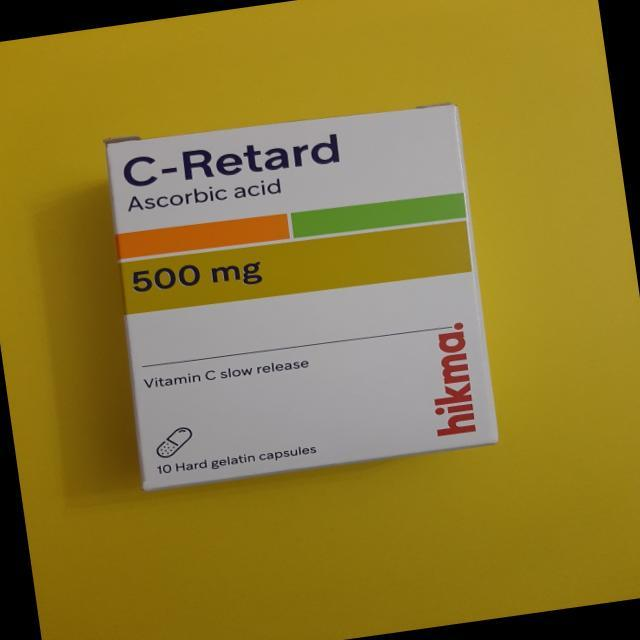Medicine Name: (118, 123, 346, 200)
